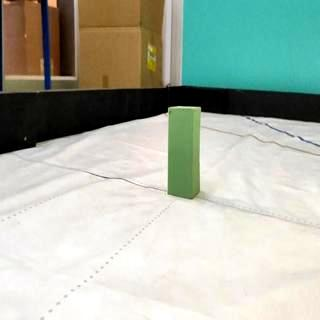greenbox: (166, 104, 202, 200)
